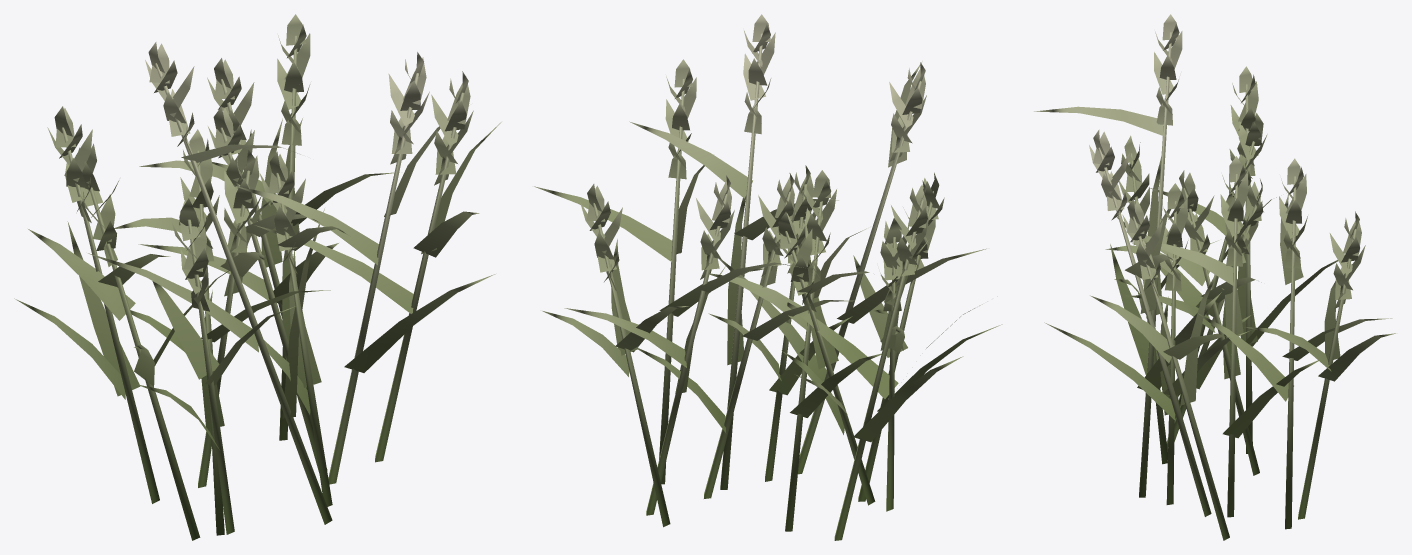
The model's file is plume_grass.glb.
3 renders of one model, left to right at view 1: azimuth 30°, elevation 25°; view 2: azimuth 150°, elevation 25°; view 3: azimuth 270°, elevation 25°, orthographic. The views are drawn at different scales.
Visible parts, largest first — view 1: plume_grass; view 2: plume_grass; view 3: plume_grass.
Boxes of the visible parts, <box> form: plume_grass: <box>14,14,501,540</box>; plume_grass: <box>534,14,1002,540</box>; plume_grass: <box>1034,14,1395,540</box>.
Bounding box in the file's own units: 1.63 × 1.63 × 1.27.
